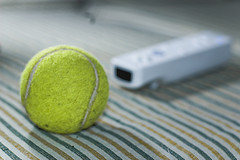tennis ball: (18, 44, 110, 134)
